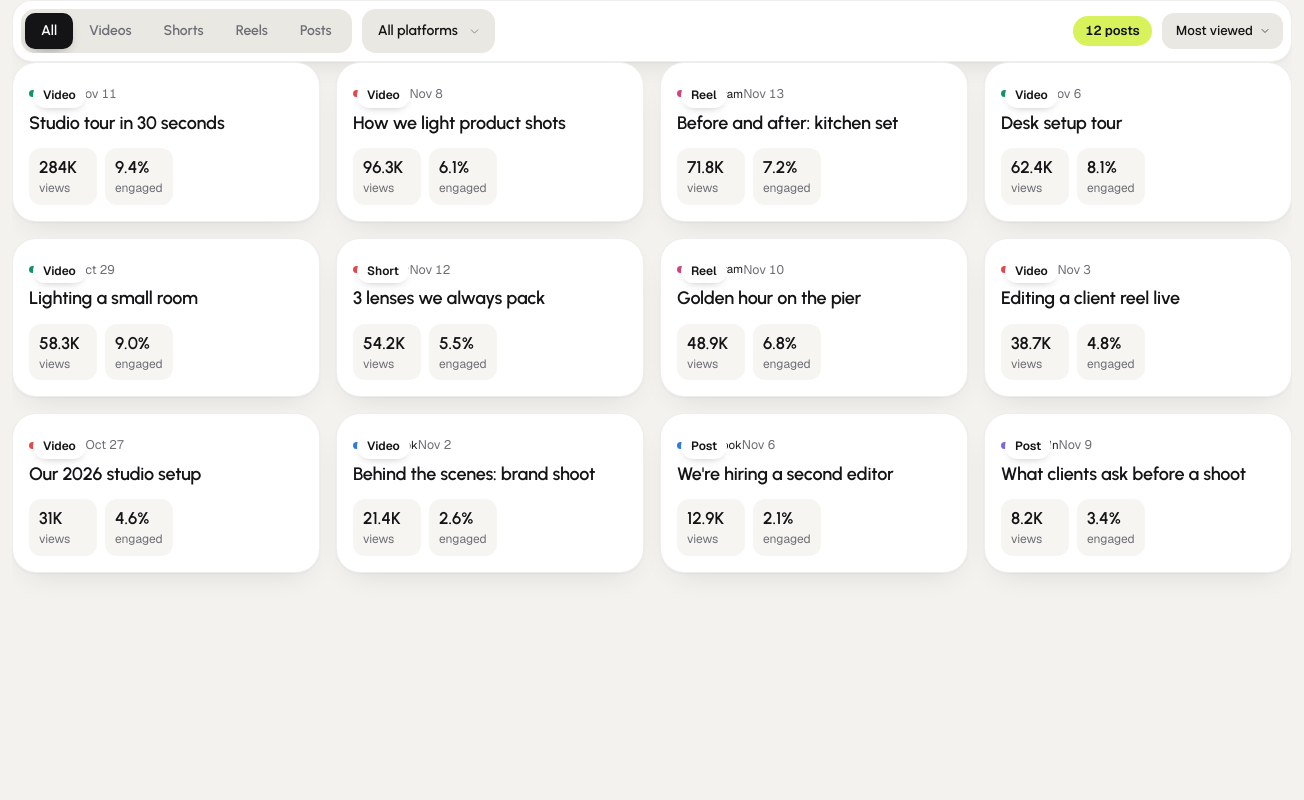
Test: ContentLibrary › filters by platform
What coordinates should you click on to do the following:
click the button with aria-label "Platform: All platforms"
I would click on:
 (428, 31)
Its box is [362,9,495,53].
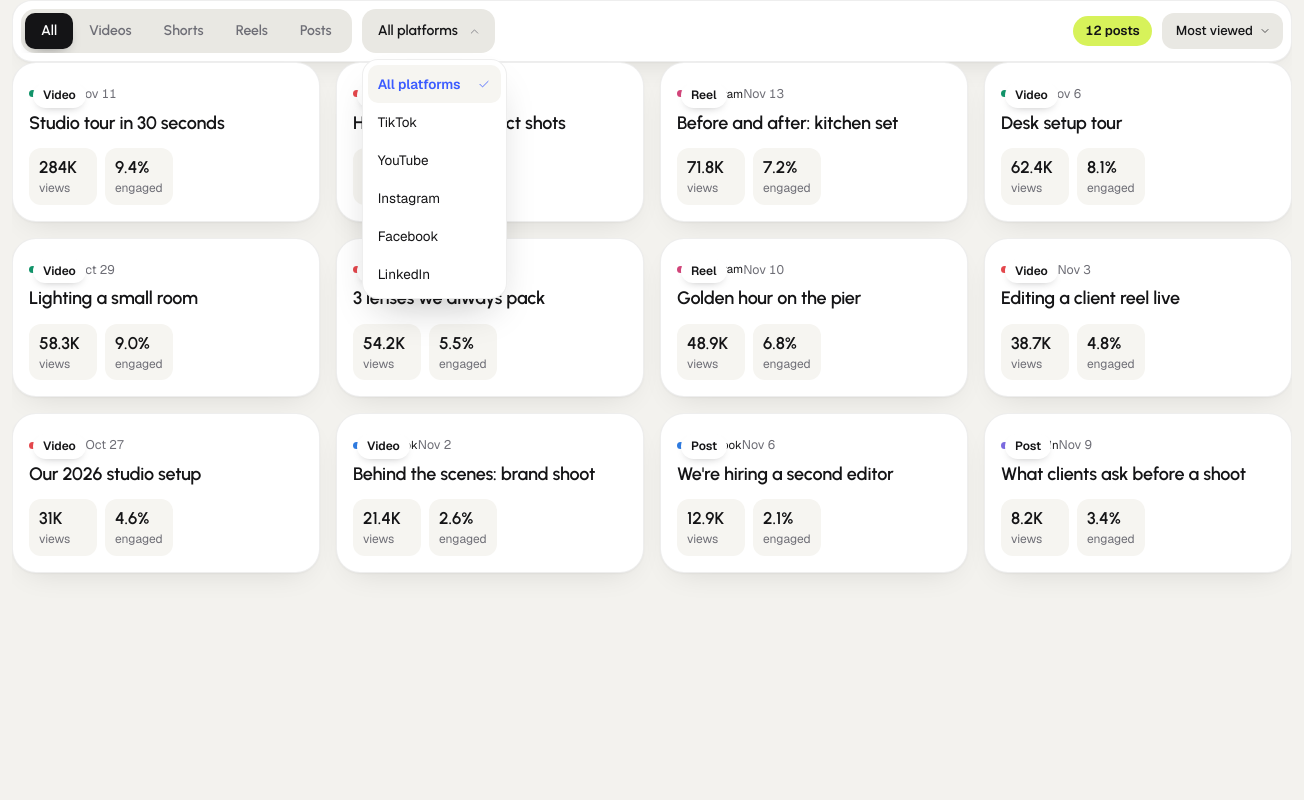
What coordinates should you click on to do the following:
click the option "YouTube"
I would click on:
 (403, 160)
Its box is [378,150,428,168].
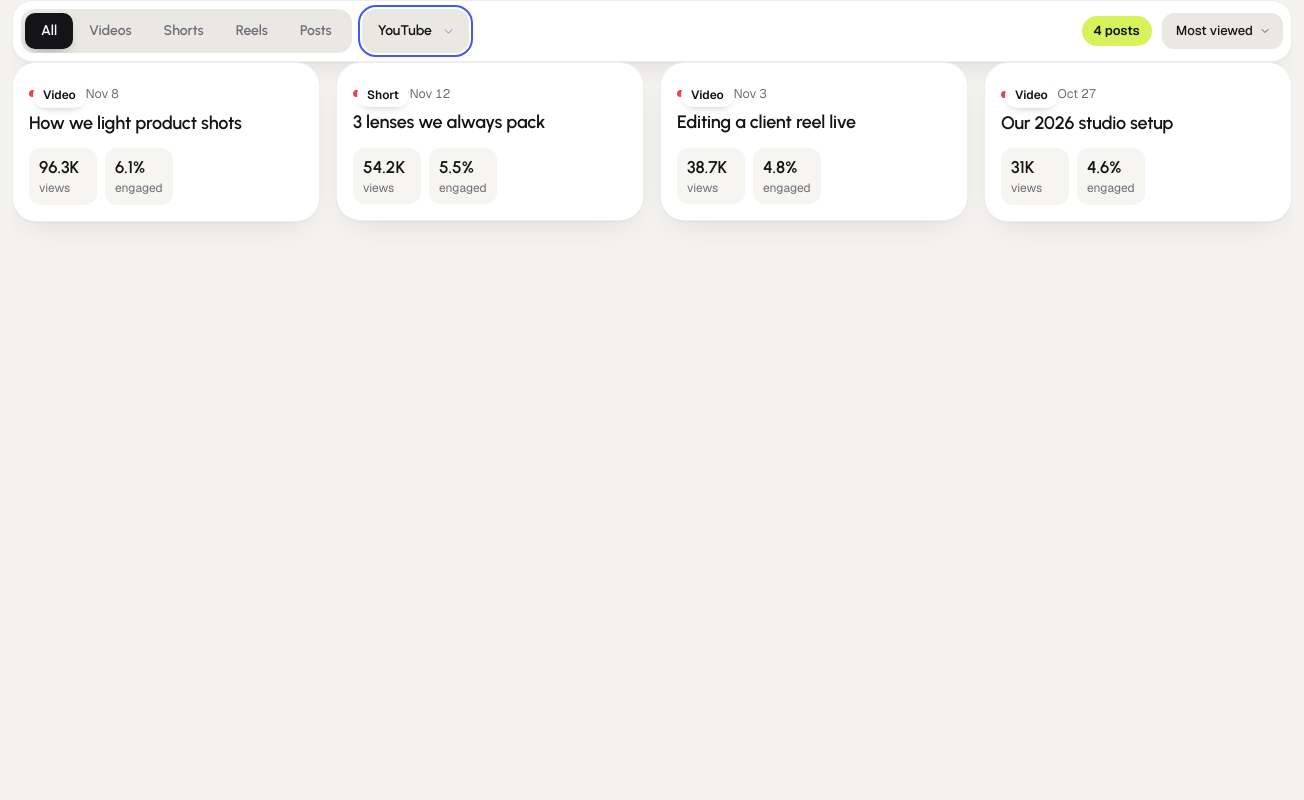
Check: the number of list items is 4, box [12,62,320,222]; [336,62,644,222]; [660,62,968,222]; [984,62,1292,222]
